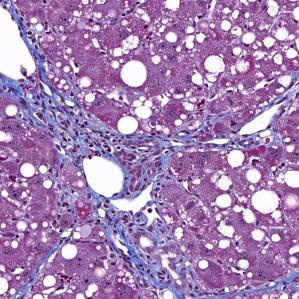fibrosis: (104, 206, 202, 294), (24, 87, 115, 156)
